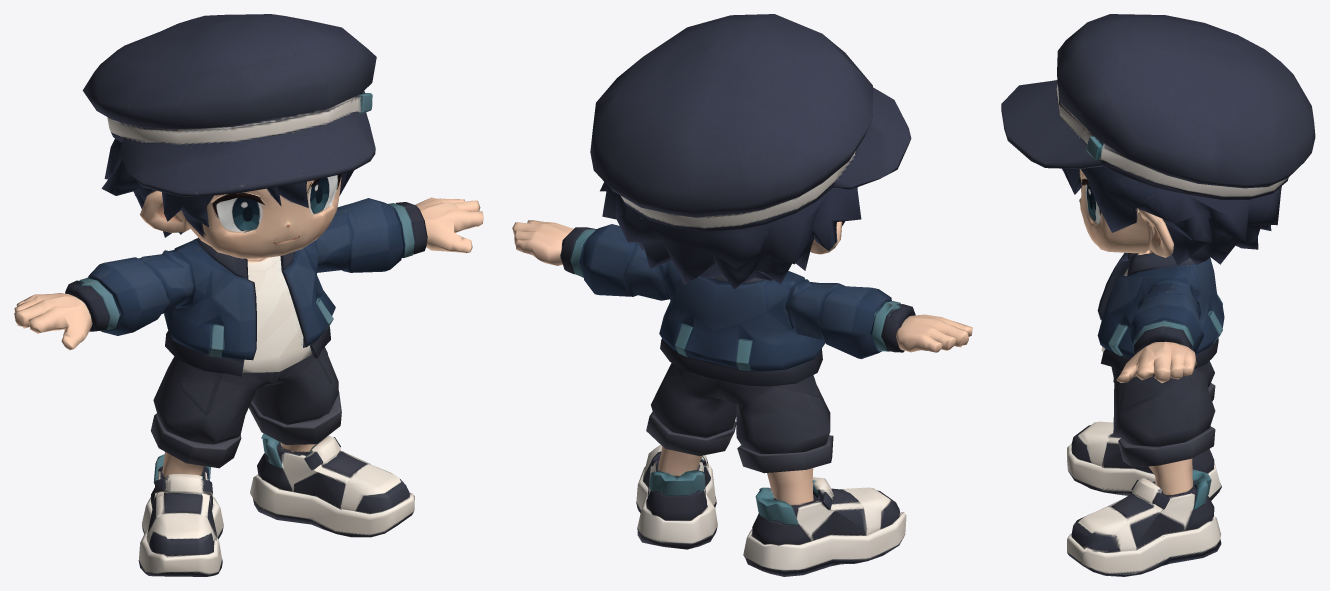
File: Protagonist_ChibiCap.glb
The picture shows the model from 3 angles, left to right: view 1: azimuth 30°, elevation 25°; view 2: azimuth 150°, elevation 25°; view 3: azimuth 270°, elevation 25°; orthographic projection. The views are drawn at different scales.
Bounding box in the file's own units: 0.9077 × 0.9517 × 0.5562.
1 material, 1 textured.
